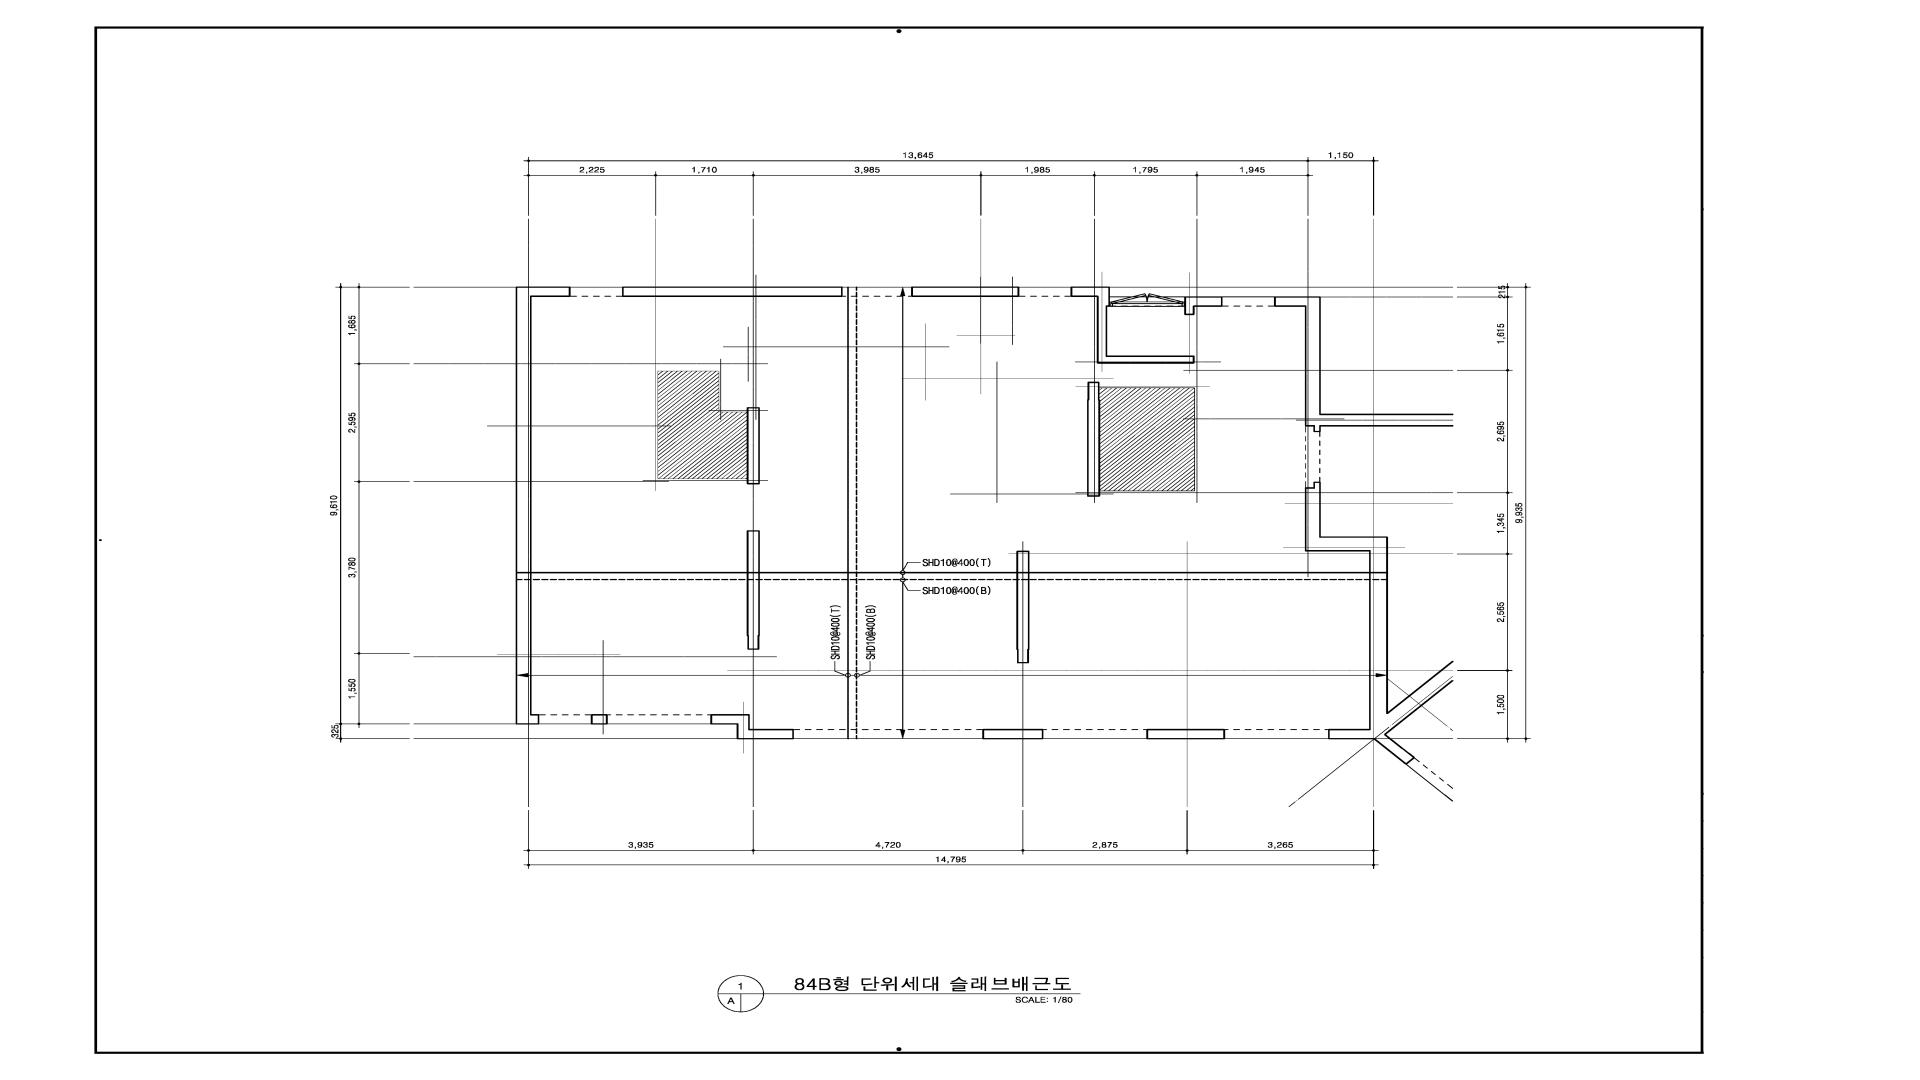wall: (1274, 296, 1453, 432), (1328, 580, 1453, 765), (516, 287, 571, 572), (1070, 287, 1195, 364), (1305, 482, 1388, 572), (847, 287, 857, 739), (857, 572, 1388, 580), (516, 580, 539, 724), (516, 572, 847, 580), (622, 287, 842, 297), (710, 714, 794, 739), (1087, 382, 1100, 497), (911, 287, 1019, 297), (1016, 580, 1029, 663), (747, 407, 760, 484), (747, 580, 760, 650), (1146, 729, 1225, 739), (1184, 296, 1222, 315), (982, 729, 1043, 739), (747, 530, 760, 572), (1016, 551, 1029, 572), (591, 714, 608, 725)
window: (1110, 293, 1184, 307)
